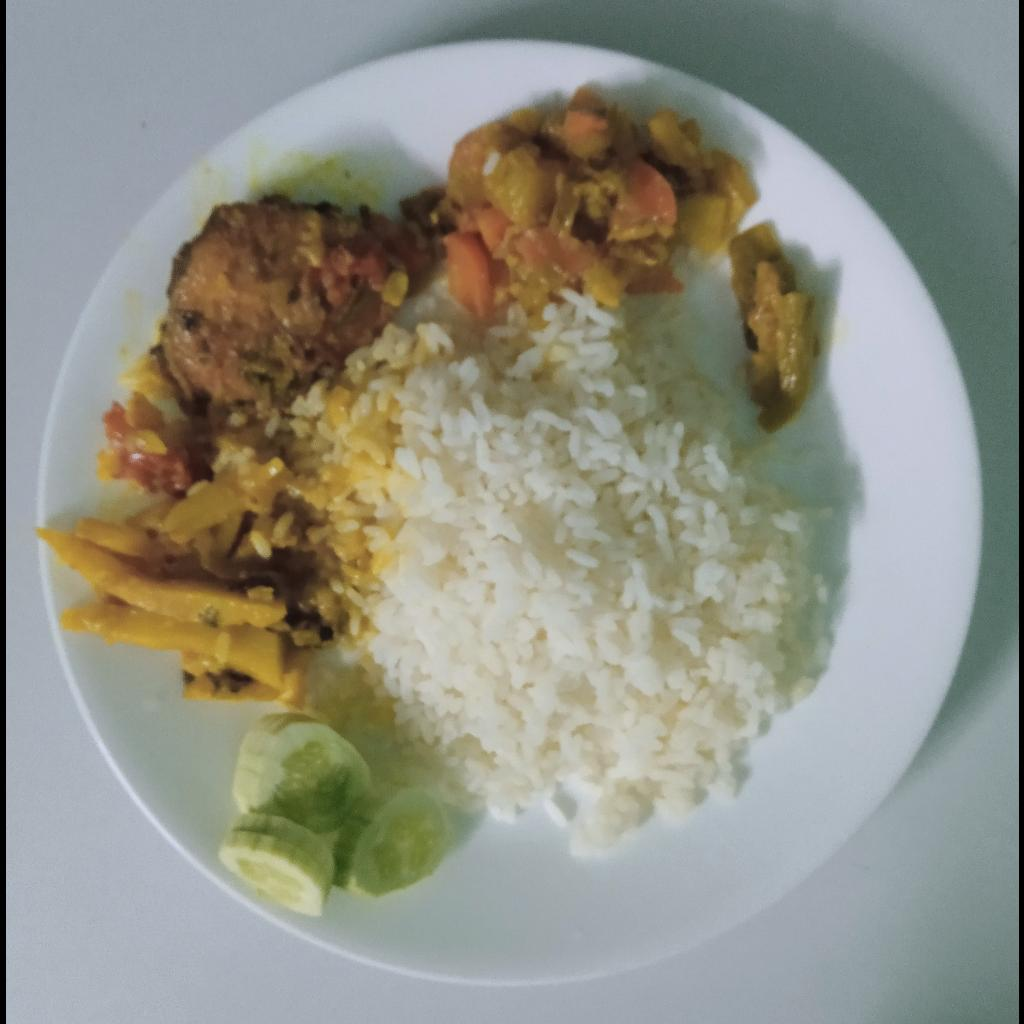cucumber: (220, 711, 451, 918)
fish: (162, 197, 435, 421)
potato: (33, 391, 343, 710)
rice: (263, 304, 830, 854)
vegetable: (401, 83, 811, 435)
